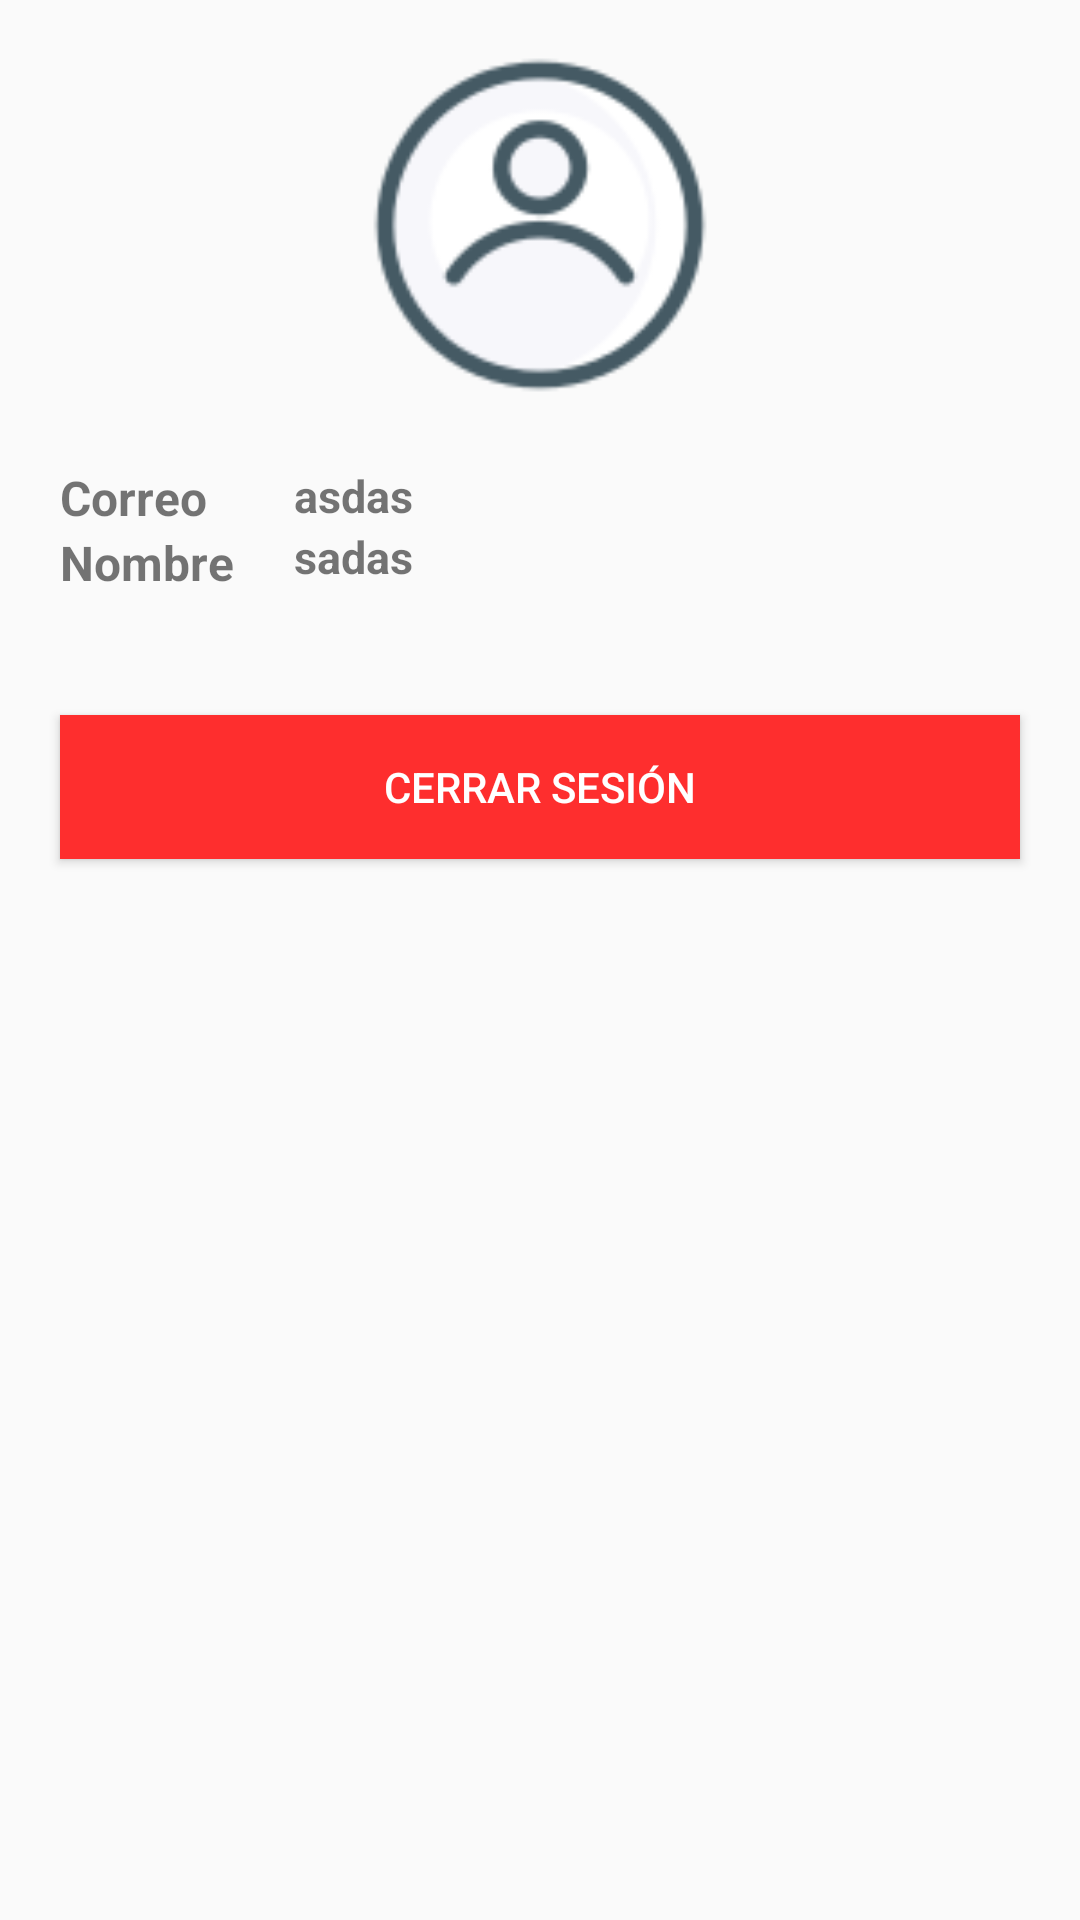

Icon bounding boxes for this 1080px x 1920px phone screenshot, format (x1, y1, x2, y2):
profiles: (374, 59, 706, 391)
